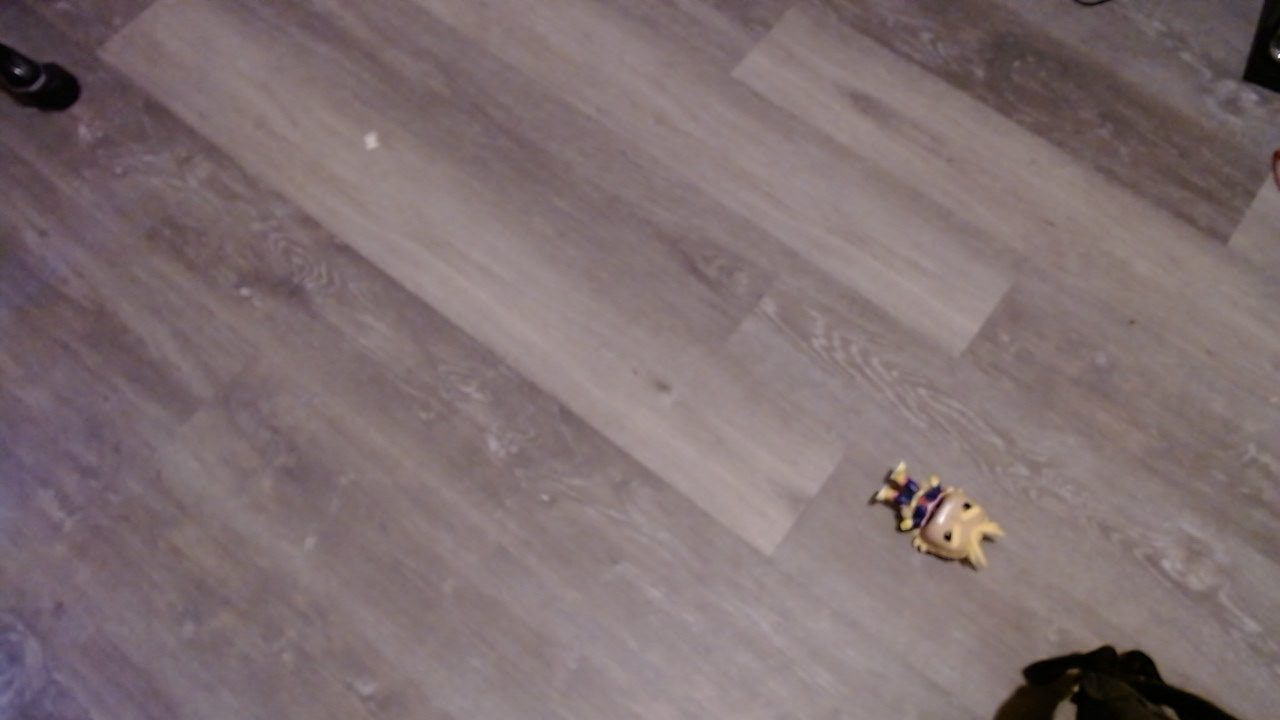all_might: (869, 463, 1028, 579)
